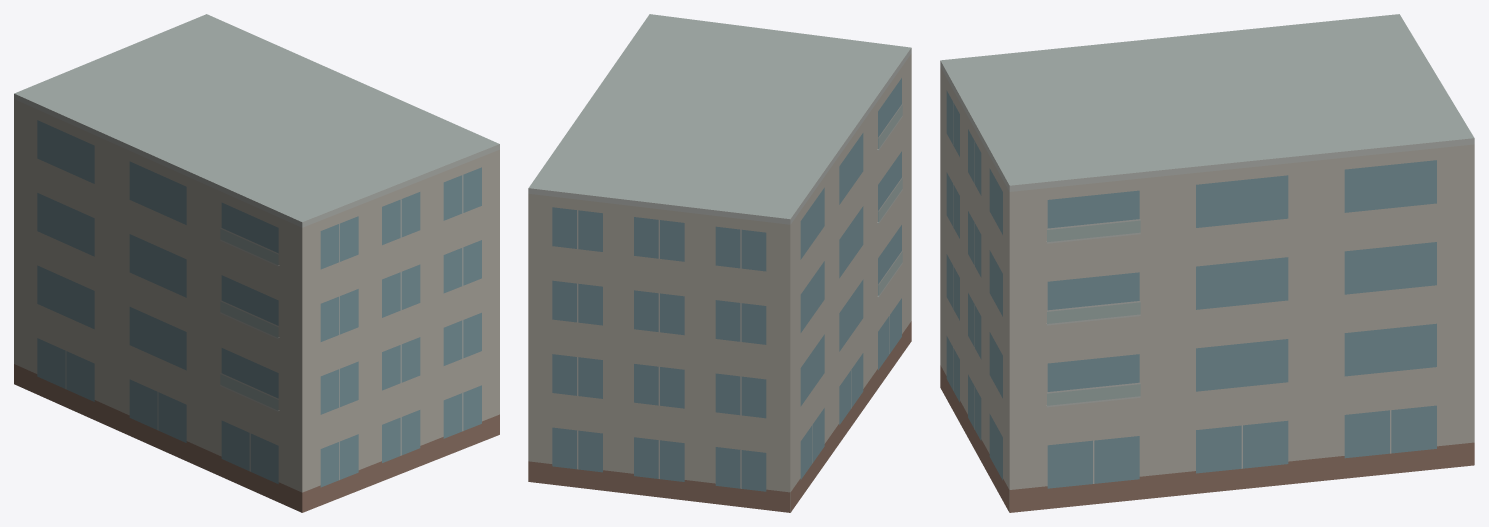
The model's file is survey-upis-32721095.glb.
3 renders of one model, left to right at view 1: azimuth 30°, elevation 25°; view 2: azimuth 150°, elevation 25°; view 3: azimuth 270°, elevation 25°, orthographic. The views are drawn at different scales.
Visible parts, largest first — view 1: survey-upis-32721095.tmp; view 2: survey-upis-32721095.tmp; view 3: survey-upis-32721095.tmp.
Part boxes in pixels (bbox=[...]): survey-upis-32721095.tmp: bbox=[14, 14, 499, 512]; survey-upis-32721095.tmp: bbox=[528, 14, 911, 512]; survey-upis-32721095.tmp: bbox=[940, 14, 1474, 512].
Size of the model in its own units: 14.42 by 12.8 by 18.95.
